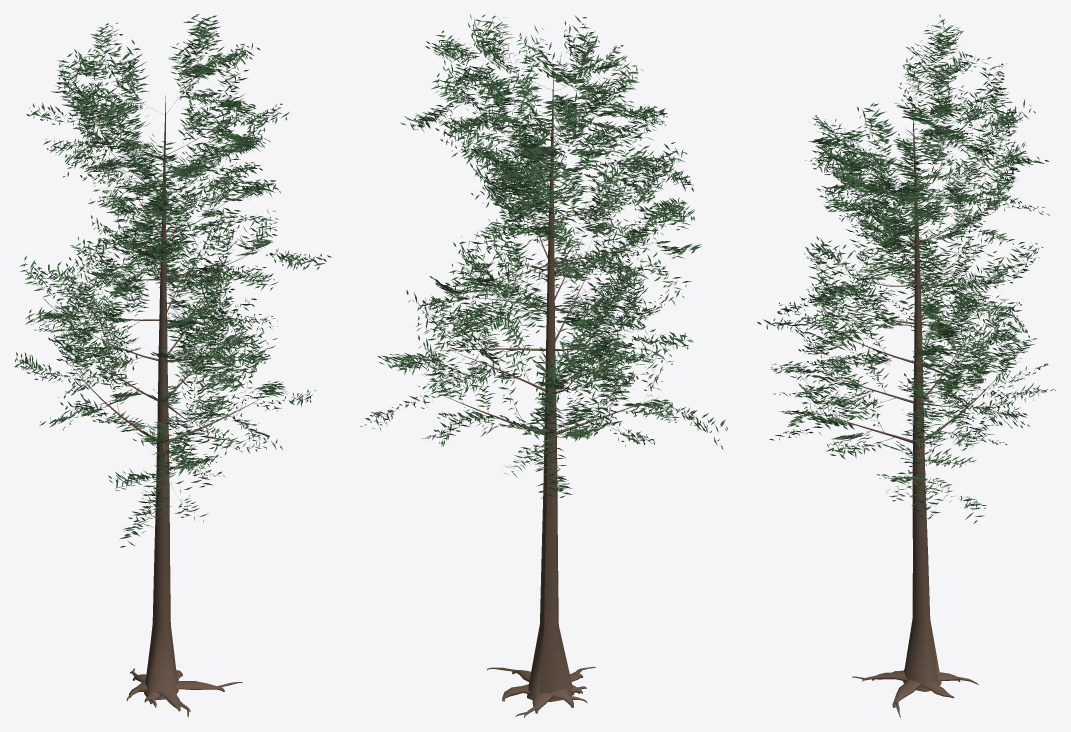
The model's file is tall-pine-0-1-1.glb.
3 renders of one model, left to right at view 1: azimuth 30°, elevation 25°; view 2: azimuth 150°, elevation 25°; view 3: azimuth 270°, elevation 25°, orthographic. The views are drawn at different scales.
Parts seen in each view (by area): view 1: tall-pine:0:1:1-lod0-leaves, tall-pine:0:1:1-lod0-branches; view 2: tall-pine:0:1:1-lod0-leaves, tall-pine:0:1:1-lod0-branches; view 3: tall-pine:0:1:1-lod0-leaves, tall-pine:0:1:1-lod0-branches.
Boxes of the visible parts, bbox=[...] form: tall-pine:0:1:1-lod0-leaves: bbox=[14, 14, 331, 547]; tall-pine:0:1:1-lod0-branches: bbox=[59, 66, 274, 717]; tall-pine:0:1:1-lod0-leaves: bbox=[360, 14, 727, 498]; tall-pine:0:1:1-lod0-branches: bbox=[412, 56, 700, 717]; tall-pine:0:1:1-lod0-leaves: bbox=[757, 14, 1055, 530]; tall-pine:0:1:1-lod0-branches: bbox=[791, 40, 1029, 717].
Size of the model in its own units: 12.58 by 27.87 by 11.65.
